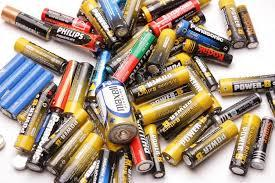battery: (89, 75, 144, 149), (179, 119, 237, 167), (0, 0, 52, 47), (229, 107, 260, 183), (12, 33, 64, 75), (179, 36, 236, 69)
